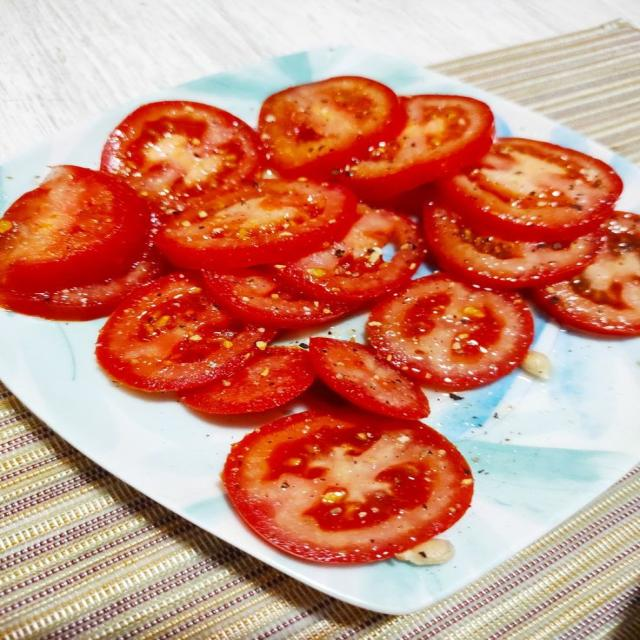sliced tomatoe: (222, 411, 473, 563), (96, 273, 273, 391), (0, 166, 151, 292), (367, 275, 533, 389), (440, 139, 622, 241), (156, 180, 355, 270), (101, 101, 264, 210), (333, 96, 493, 201), (424, 199, 602, 289), (259, 77, 405, 177), (280, 204, 424, 302), (534, 213, 639, 336), (0, 249, 166, 320), (309, 338, 429, 419), (179, 346, 314, 414), (204, 267, 352, 328)
